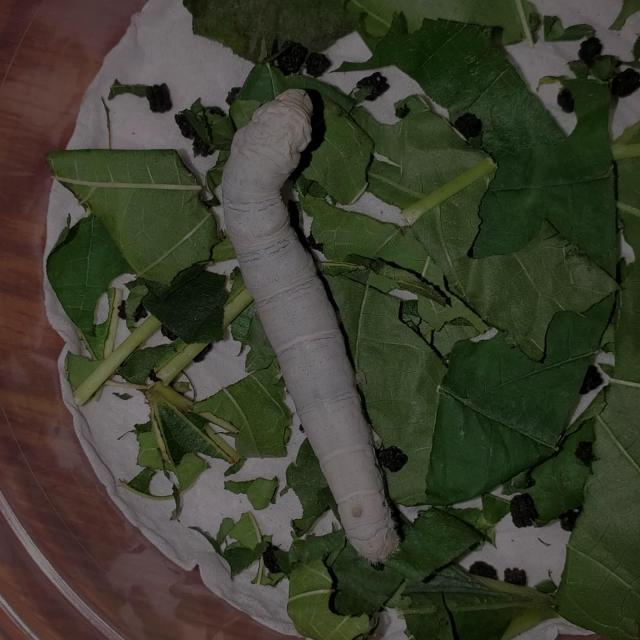Healthy: (209, 78, 421, 569)
